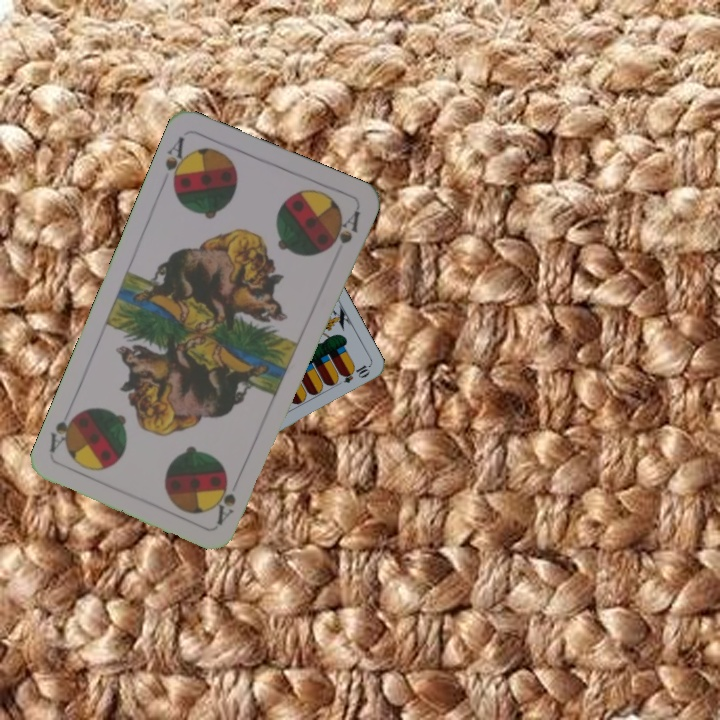SA: (161, 132, 193, 193), (212, 489, 239, 527)
